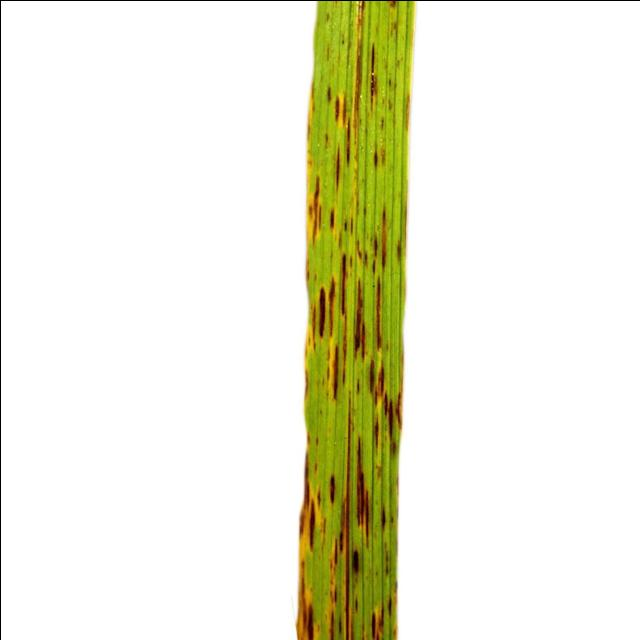Narrow brown: (276, 0, 437, 640)
